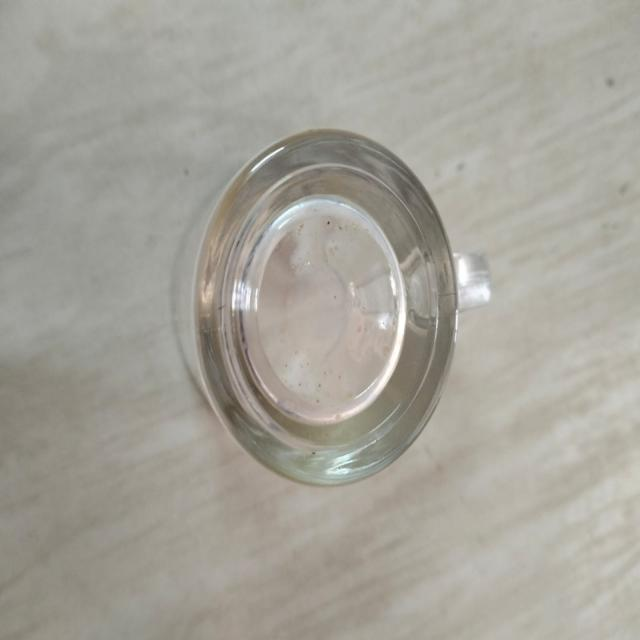glass-VX4N: (188, 118, 476, 484)
